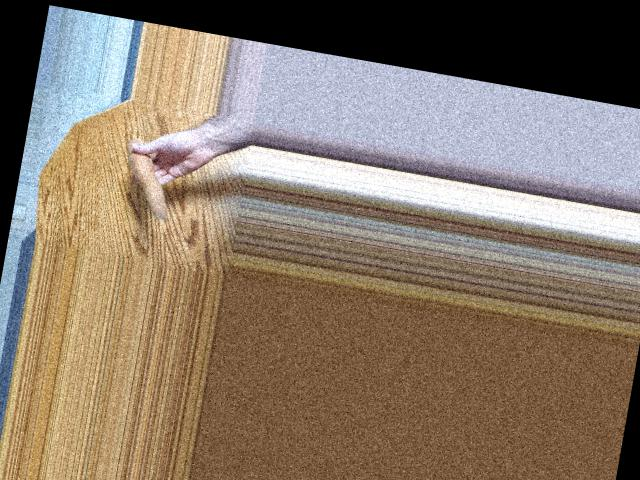sweet_potato: (116, 134, 180, 219)
